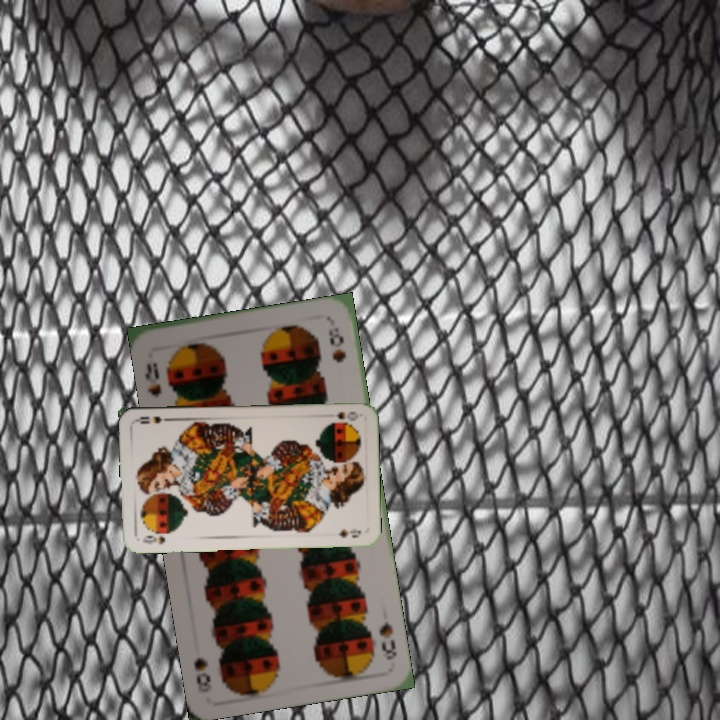S8: (375, 618, 399, 663), (141, 359, 164, 400)
SO: (139, 529, 173, 547), (333, 408, 361, 423)
